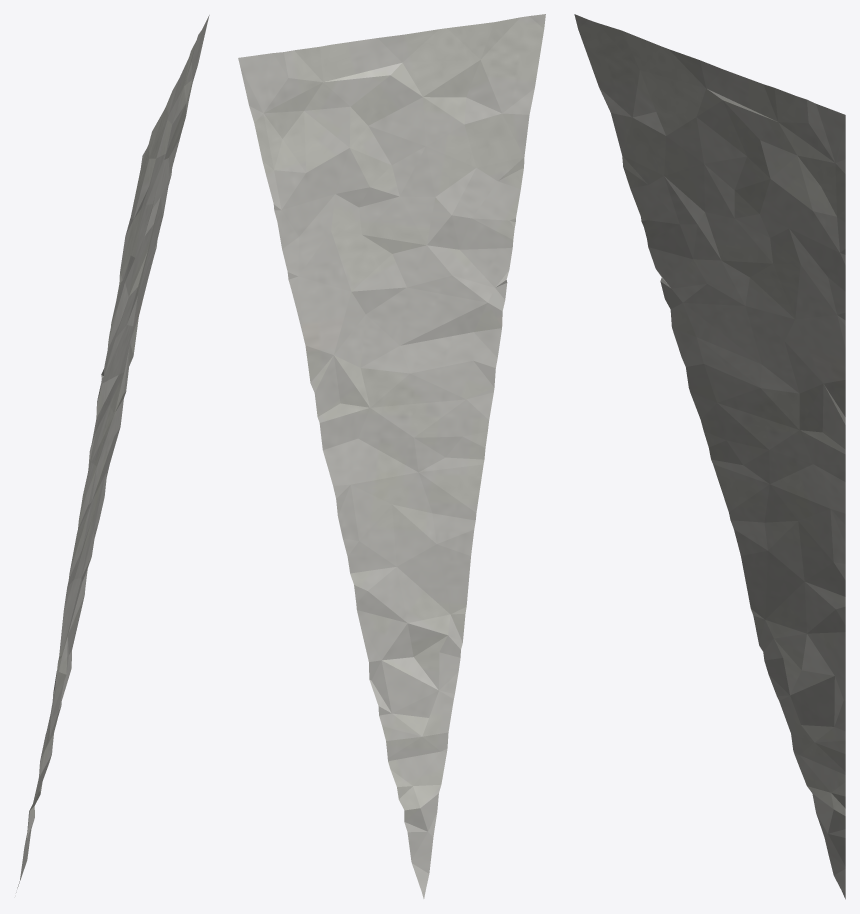
3 renders of one model, left to right at view 1: azimuth 30°, elevation 25°; view 2: azimuth 150°, elevation 25°; view 3: azimuth 270°, elevation 25°, orthographic. The views are drawn at different scales.
Size of the model in its own units: 0.187 by 0.7655 by 0.2125.
Materials: 1 (1 with a texture image).
